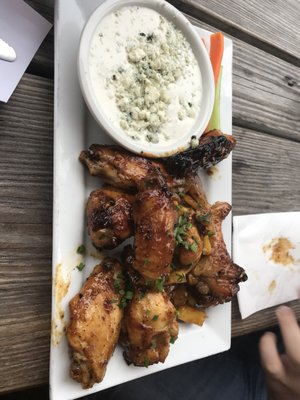sushi: (76, 0, 217, 158)
